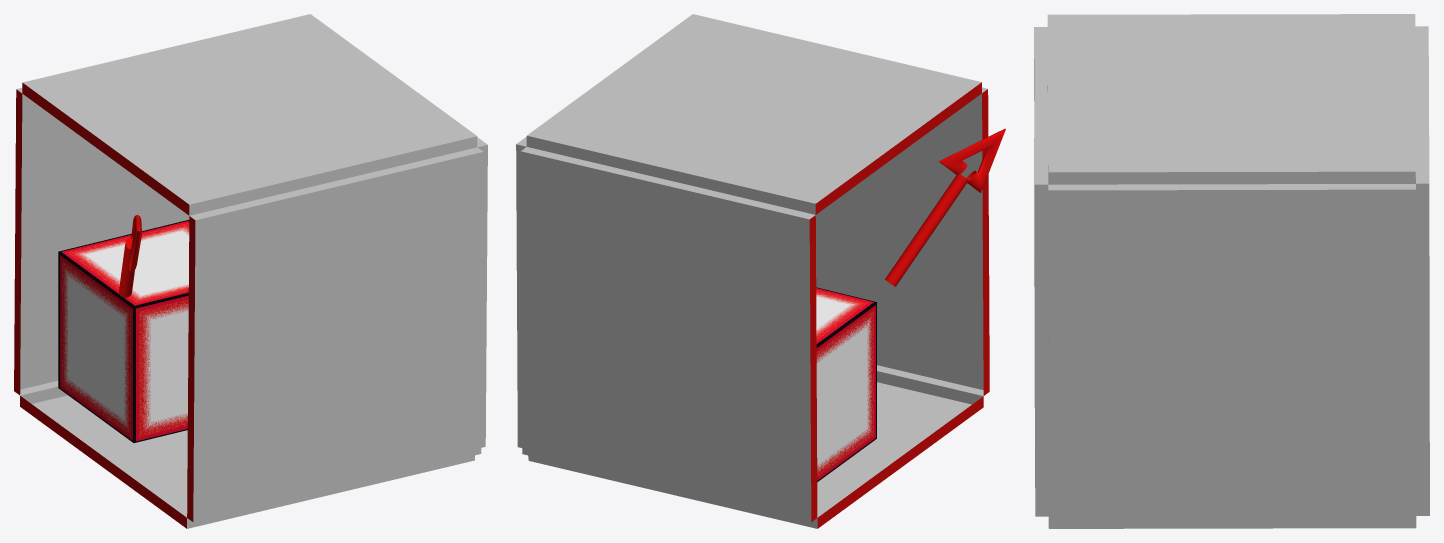
The model's file is size.fbx.
3 renders of one model, left to right at view 1: azimuth 30°, elevation 25°; view 2: azimuth 150°, elevation 25°; view 3: azimuth 270°, elevation 25°, orthographic. The views are drawn at different scales.
Parts seen in each view (by area): view 1: Cube_2_1, Cube_1, Cylinder; view 2: Cube_2_1, Cube_1, Cylinder, Sweep_NURBS_1; view 3: Cube_2_1.
Boxes of the visible parts, bbox=[...] form: Cube_2_1: bbox=[14, 14, 487, 528]; Cube_1: bbox=[58, 220, 189, 442]; Cylinder: bbox=[119, 237, 134, 297]; Cube_2_1: bbox=[516, 14, 989, 528]; Cube_1: bbox=[816, 287, 876, 481]; Cylinder: bbox=[885, 173, 968, 286]; Sweep_NURBS_1: bbox=[939, 128, 1005, 192]; Cube_2_1: bbox=[1034, 14, 1429, 528].
Bounding box in the file's own units: 94.86 × 87.77 × 87.37.
Materials: 5 (5 with a texture image).
